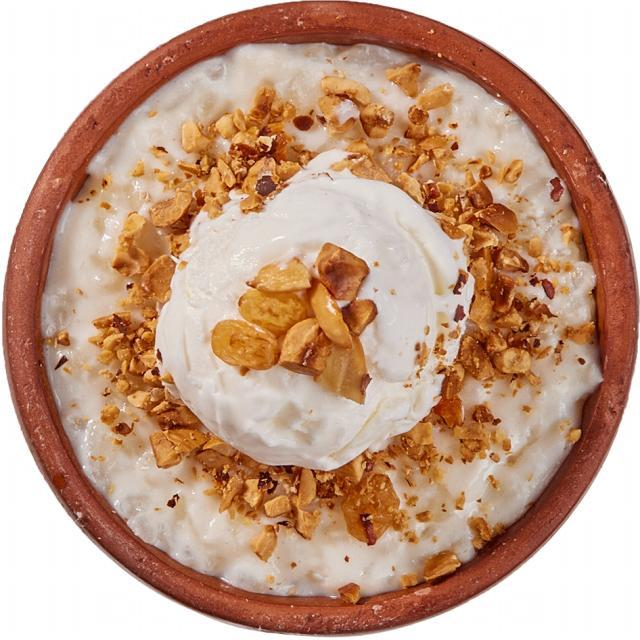roz blabn: (41, 36, 609, 627)
